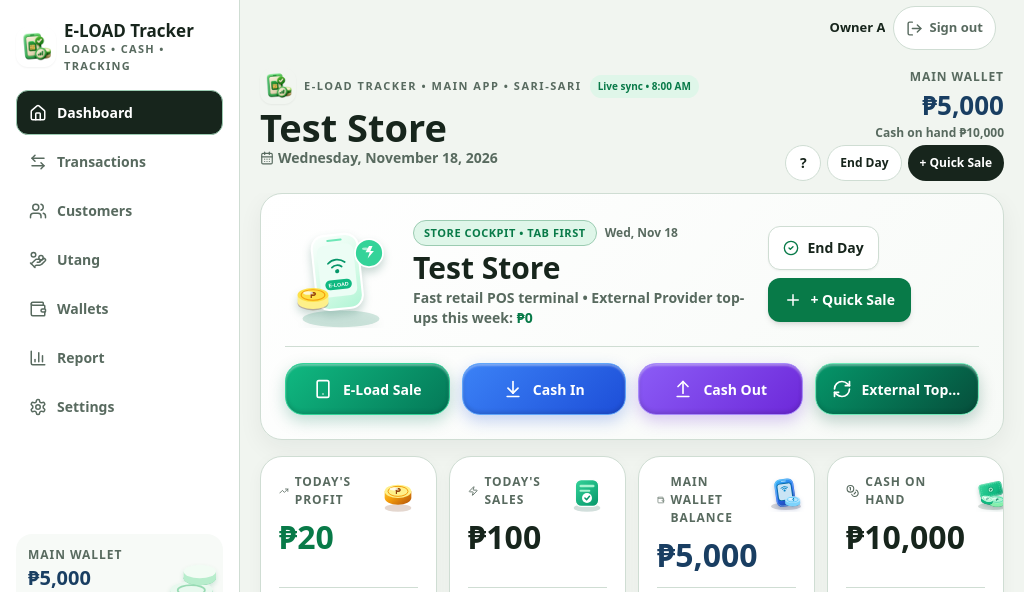
Test: clay customer avatars across the dashboard › uses clay portraits in Recent, Frequent, and name/number matches without affecting customer selection
The image size is (1024, 592).
Click the button "E-Load Sale". click: (367, 389)
box: [285,363,450,415]
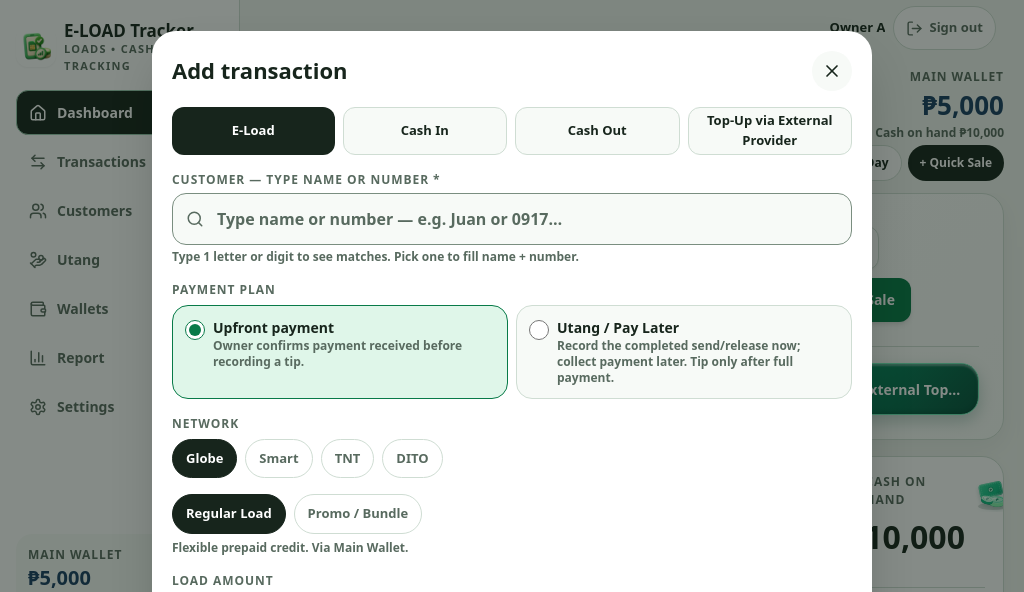
Focus the field with placeholder "Type name or number — e.g. Juan or 0917…". click: (512, 219)
box: [172,193,852,245]
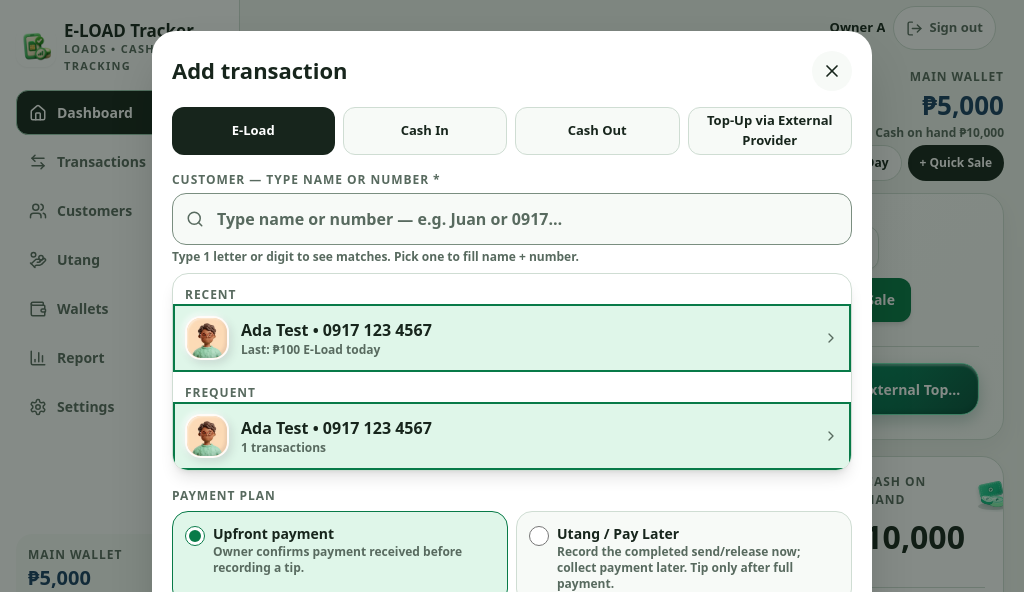
Check: the text "Recent" is shown, box [185,286,236,303]
Check: the text "Frequent" is shown, box [185,384,256,401]
Type "Ada" into the field with placeholder "Type name or number — e.g. Juan or 0917…". click: (512, 219)
box: [172,193,852,245]
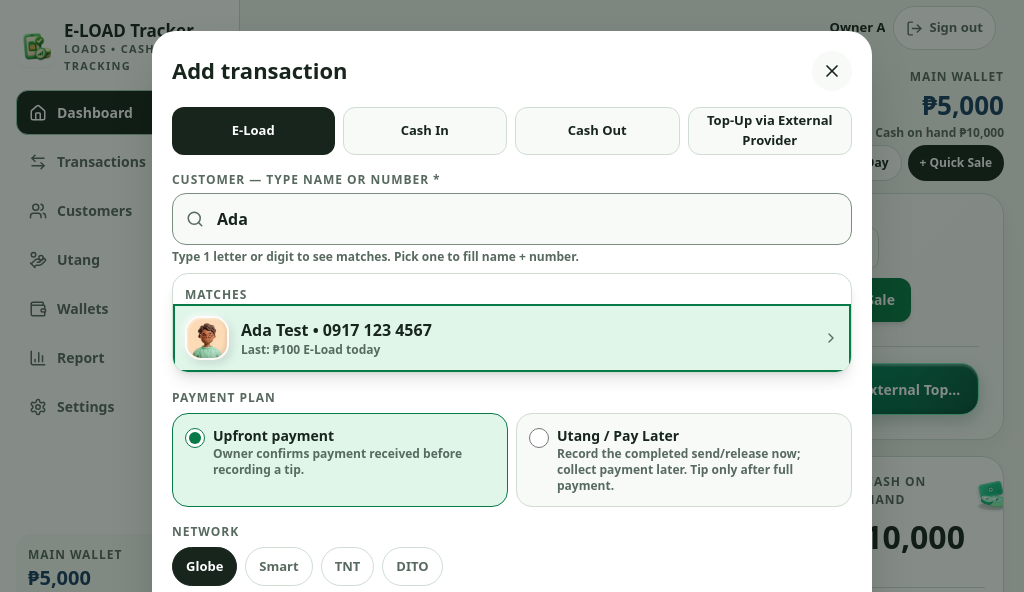
Check: the picture is shown, box [187,318,227,358]
Check: the text "Matches" is shown, box [185,286,247,303]
Press the mouse on the button "Ada Test • 0917 123 4567 Last: ₱100 E-Load today" at (207, 338), box [173,304,851,372]
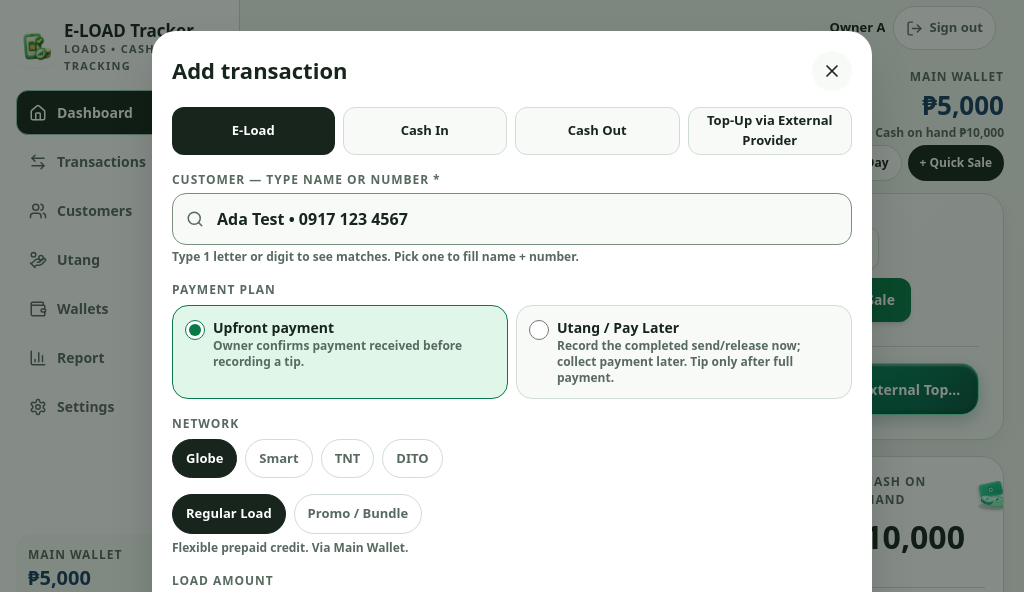
Check: the field named "Customer — type name or number" holds "Ada Test • 0917 123 4567", box [172,193,852,245]
